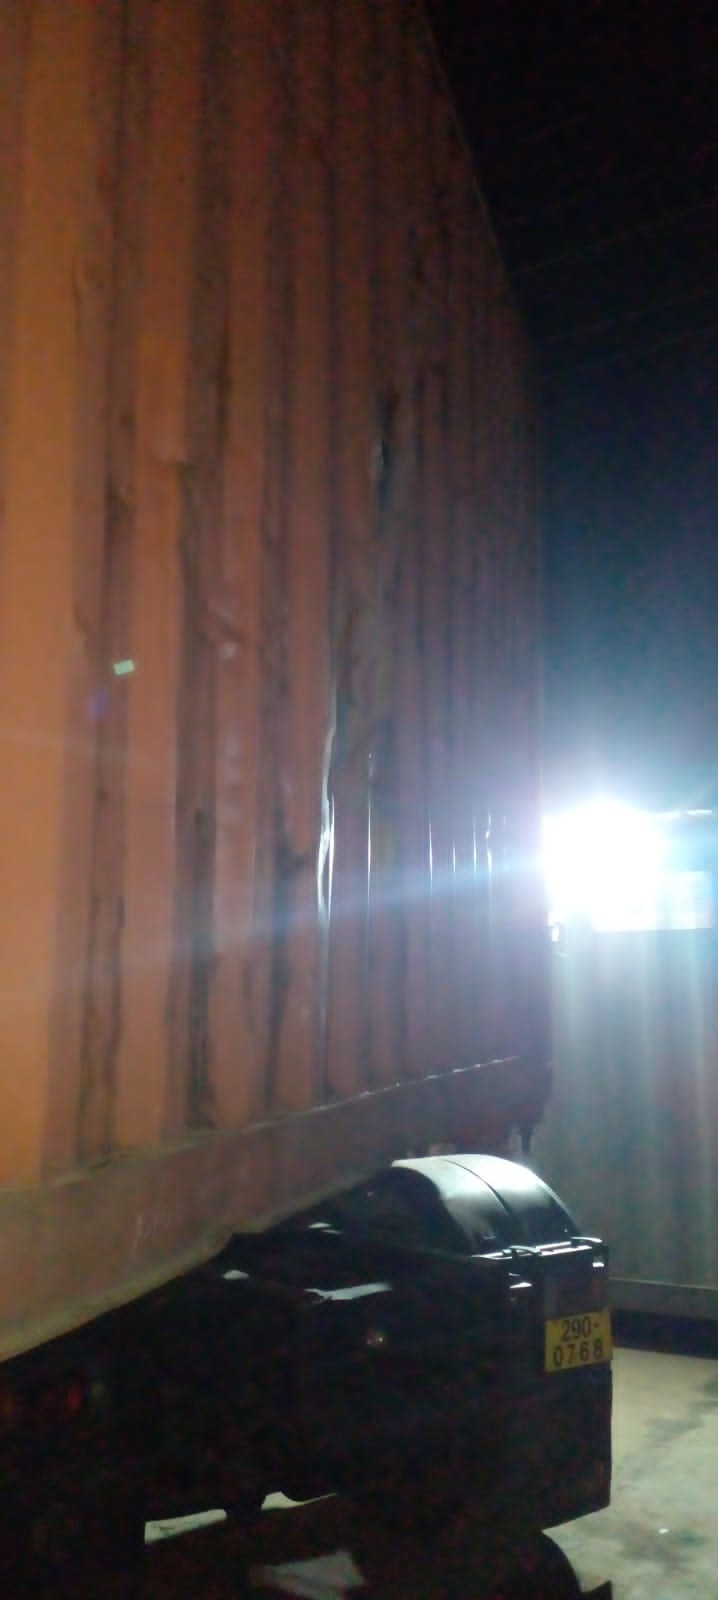moderate: (119, 391, 475, 1145)
